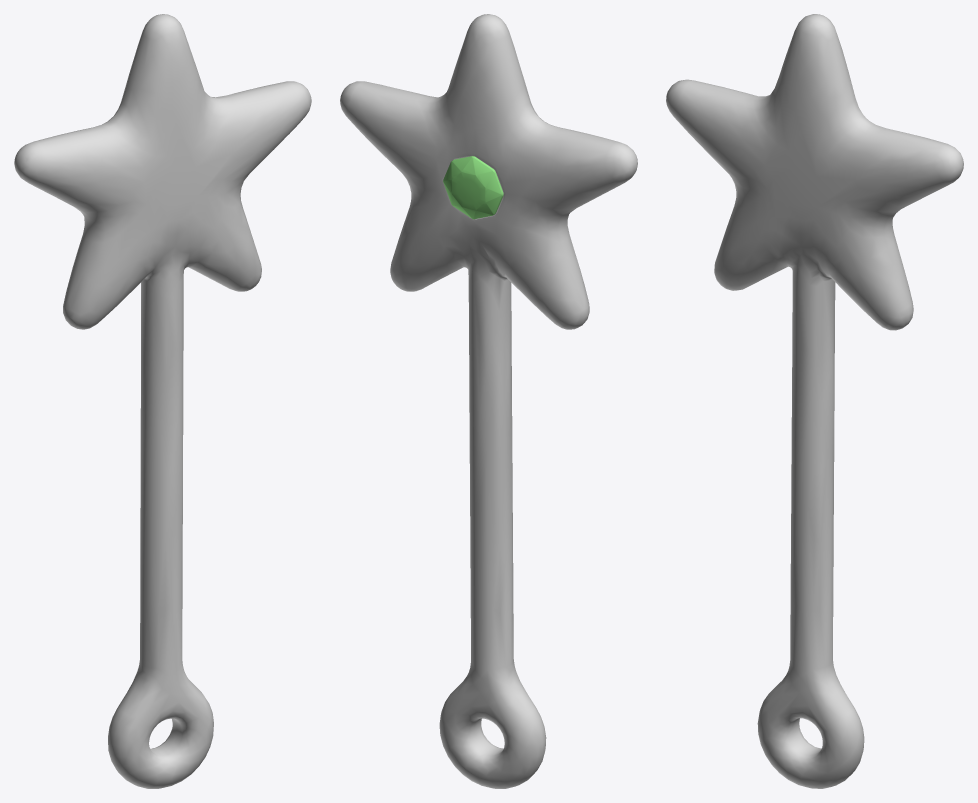
Rendered from wand.glb.
3 renders of one model, left to right at view 1: azimuth 30°, elevation 25°; view 2: azimuth 150°, elevation 25°; view 3: azimuth 330°, elevation 25°, orthographic.
Parts seen in each view (by area): view 1: Stick; view 2: Stick, Gem; view 3: Stick.
Part boxes in pixels (left/top/right/bottom): Stick: left=14, top=14, right=311, bottom=788; Stick: left=340, top=14, right=637, bottom=788; Gem: left=443, top=156, right=503, bottom=219; Stick: left=666, top=14, right=963, bottom=788.
Size of the model in its own units: 6.83 by 17.17 by 1.49.
